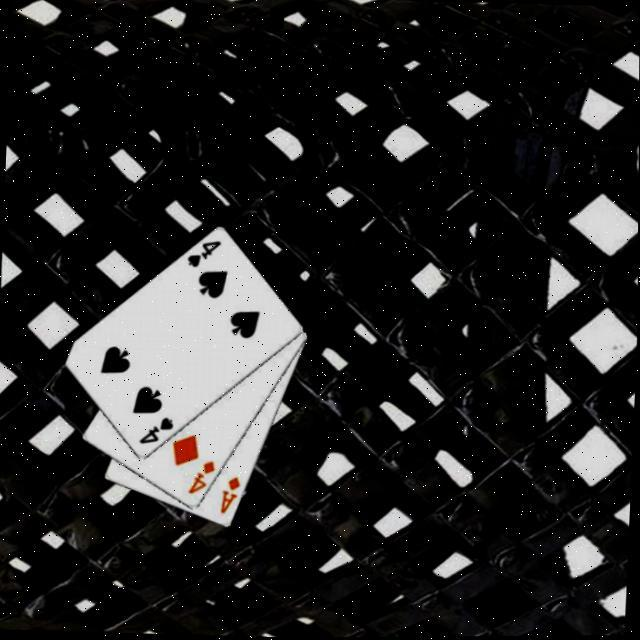4D: (184, 459, 217, 500)
4S: (134, 415, 173, 449), (182, 239, 221, 273)
AD: (214, 474, 241, 519)
